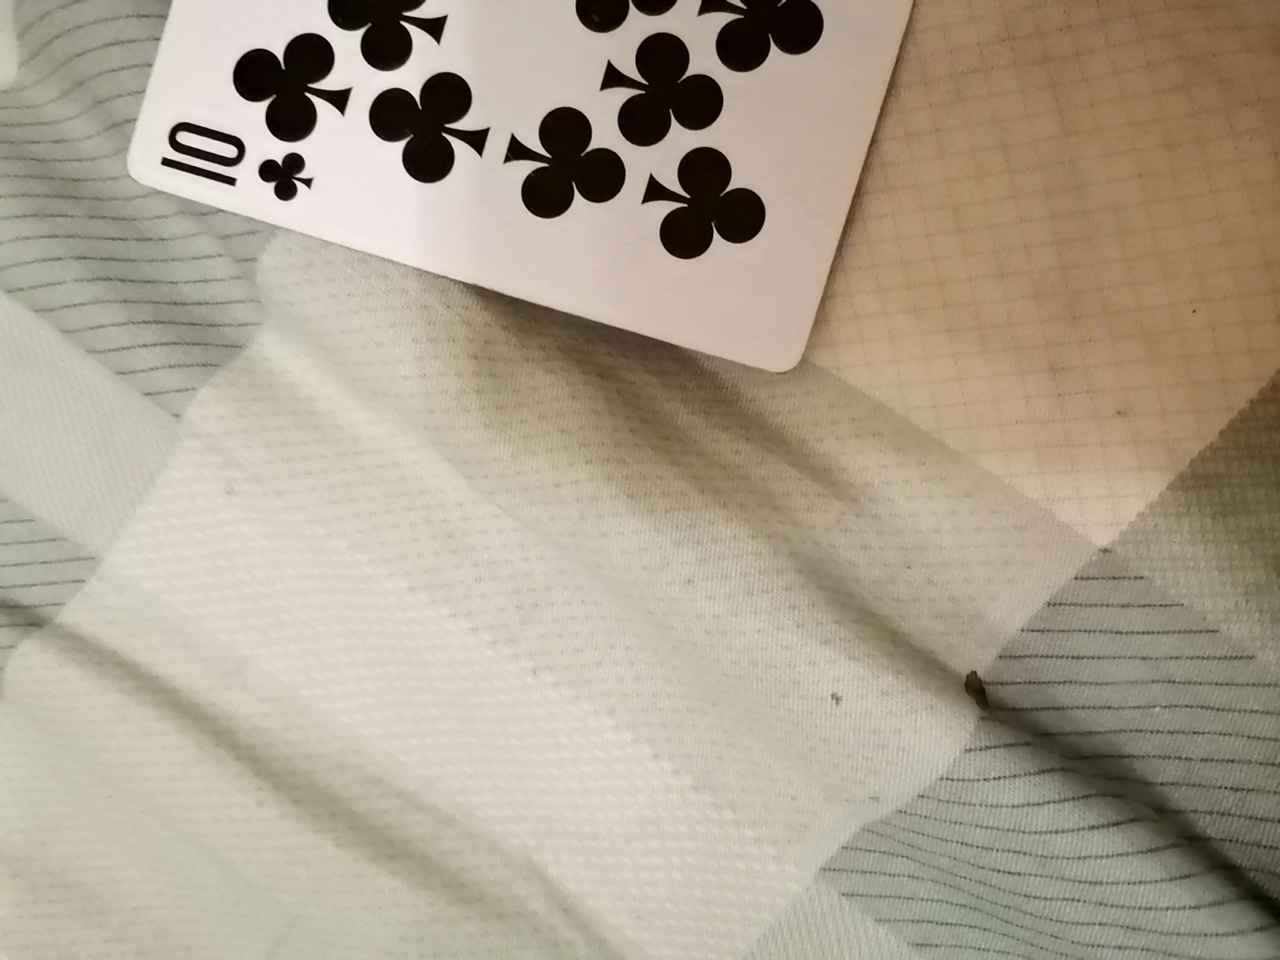mh 10: (147, 0, 933, 365)
